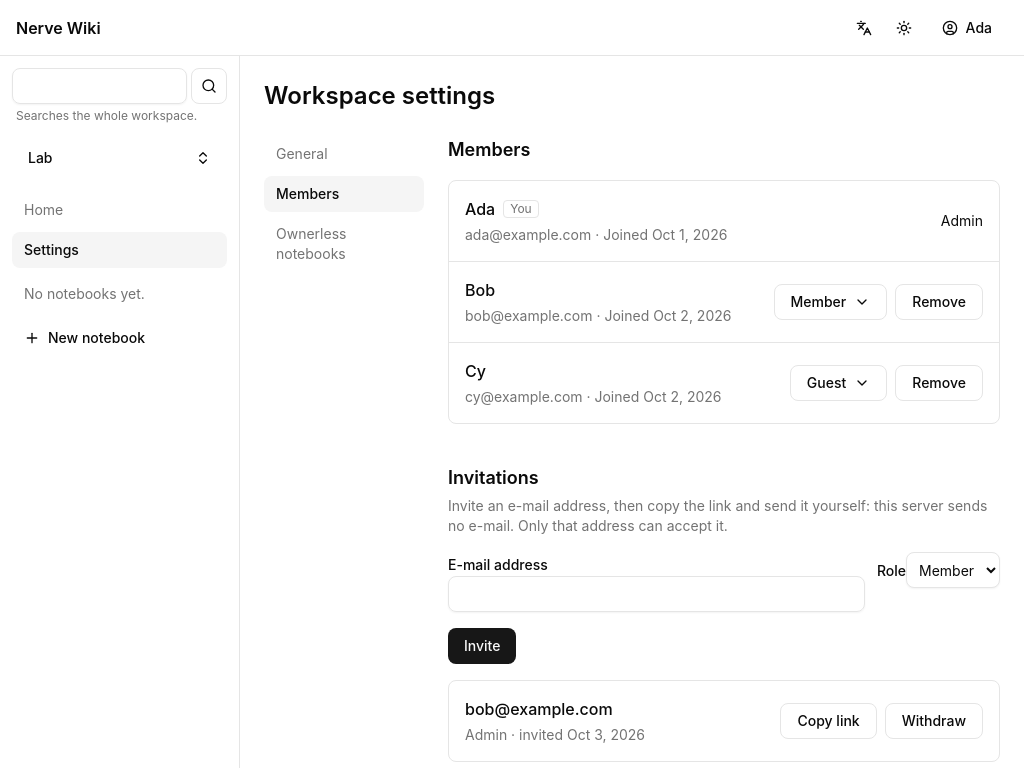
Test: a change refused reads the list and the workspaces again: the controls follow the account's role
Click the button "Member" at (830, 302), box [774,284,887,320]
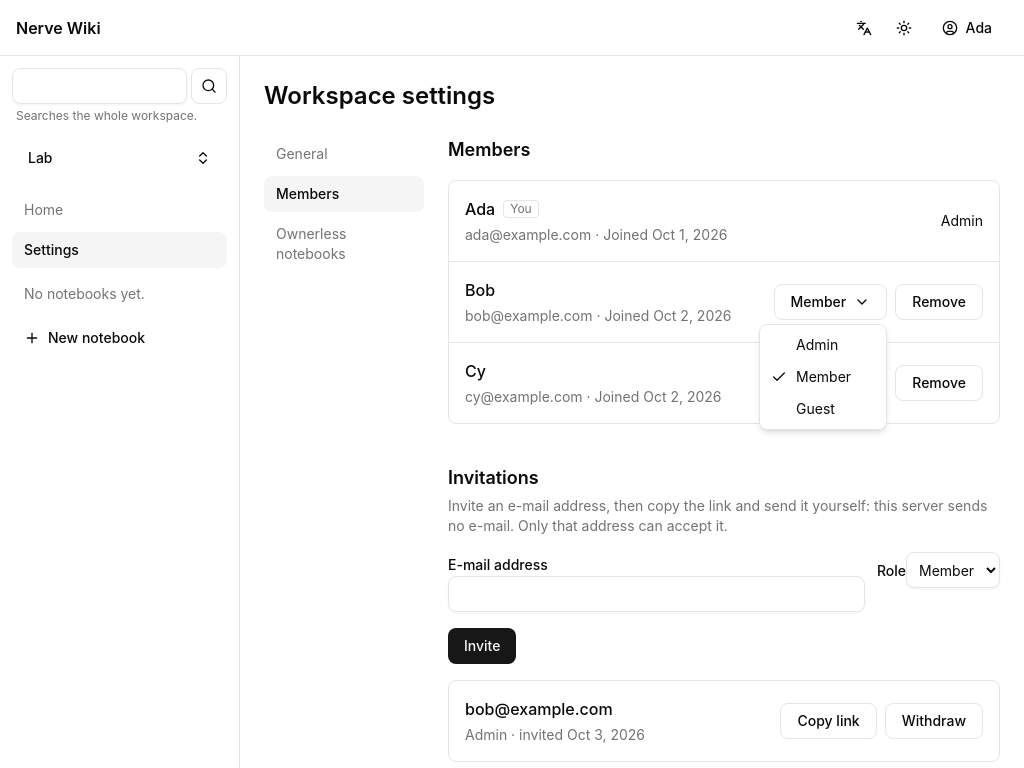
Click the menu item "Admin" at (817, 344), box [796,336,838,353]
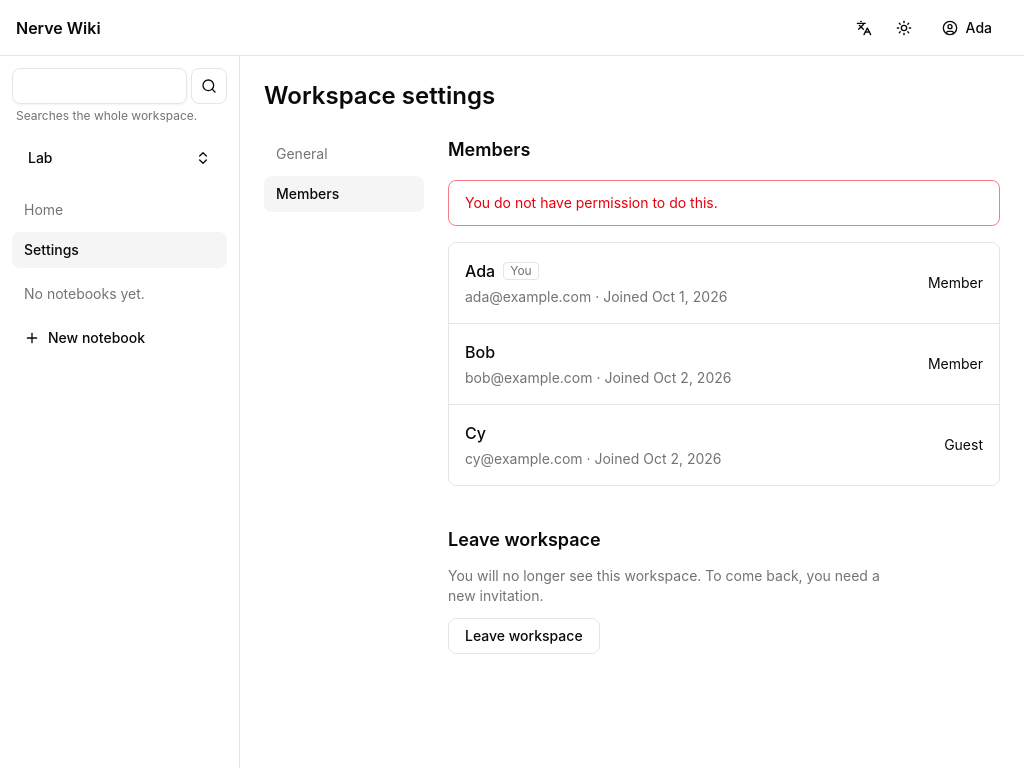
Result: the message reads "You do not have permission to do this." at [465,194,718,211]
Result: the heading "Invitations" is gone
Result: the list item "Ada You ada@example.com · Joined Oct 1, 2026 Member" is shown at [449,243,999,324]
